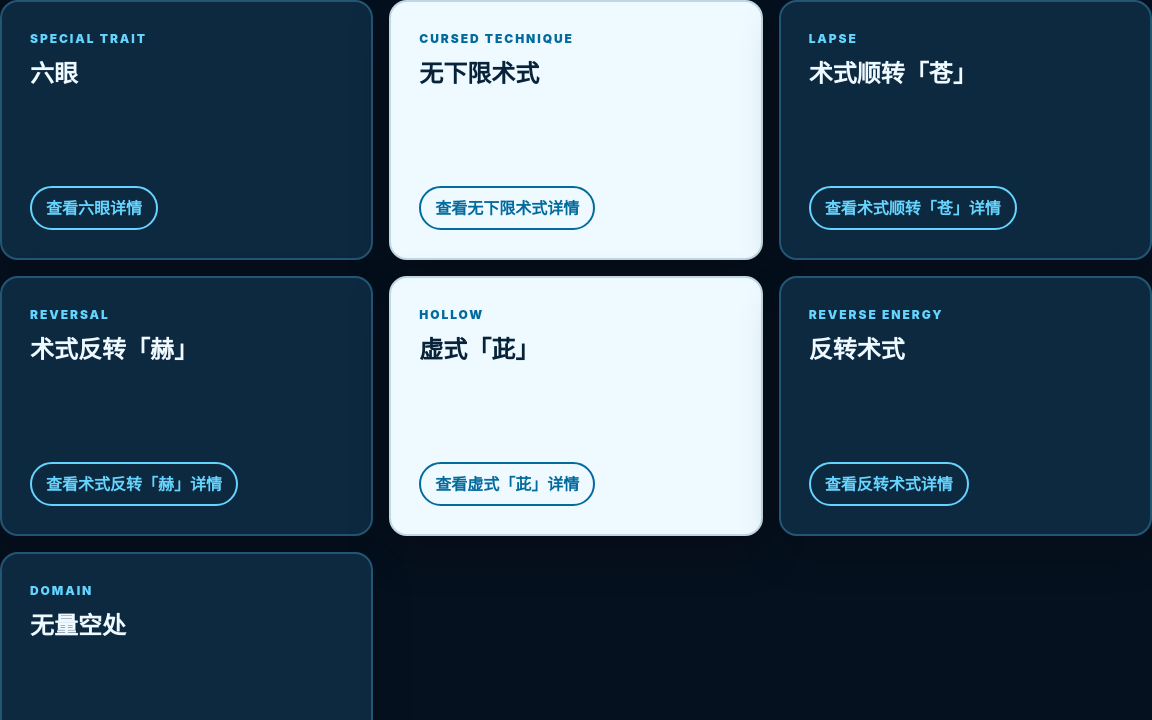
it: HomePage interactions › expands and collapses a technique detail
The image size is (1152, 720).
Check: the text "近乎零损耗" is not shown
Click the button "查看六眼详情": coordinates (94, 208) [30,186,158,230]
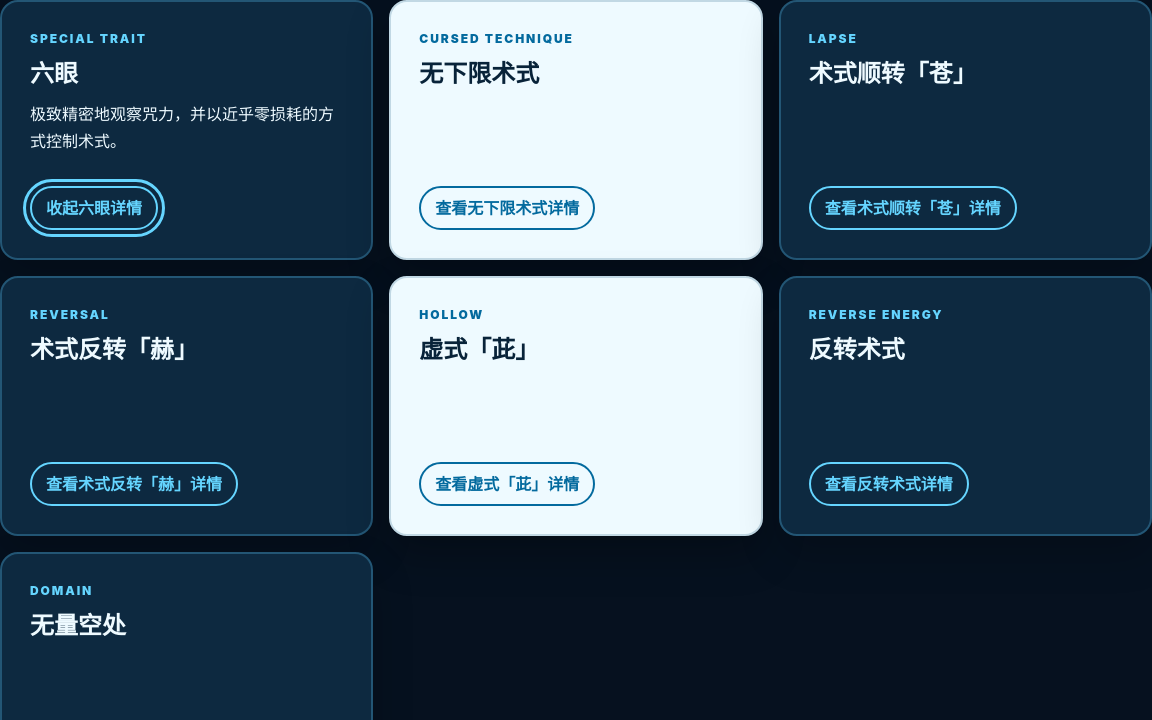
Check: the text "极致精密地观察咒力，并以近乎零损耗的方式控制术式。" is shown, box [30,101,343,155]
Click the button named "查看六眼详情": coordinates (94, 208) [30,186,158,230]
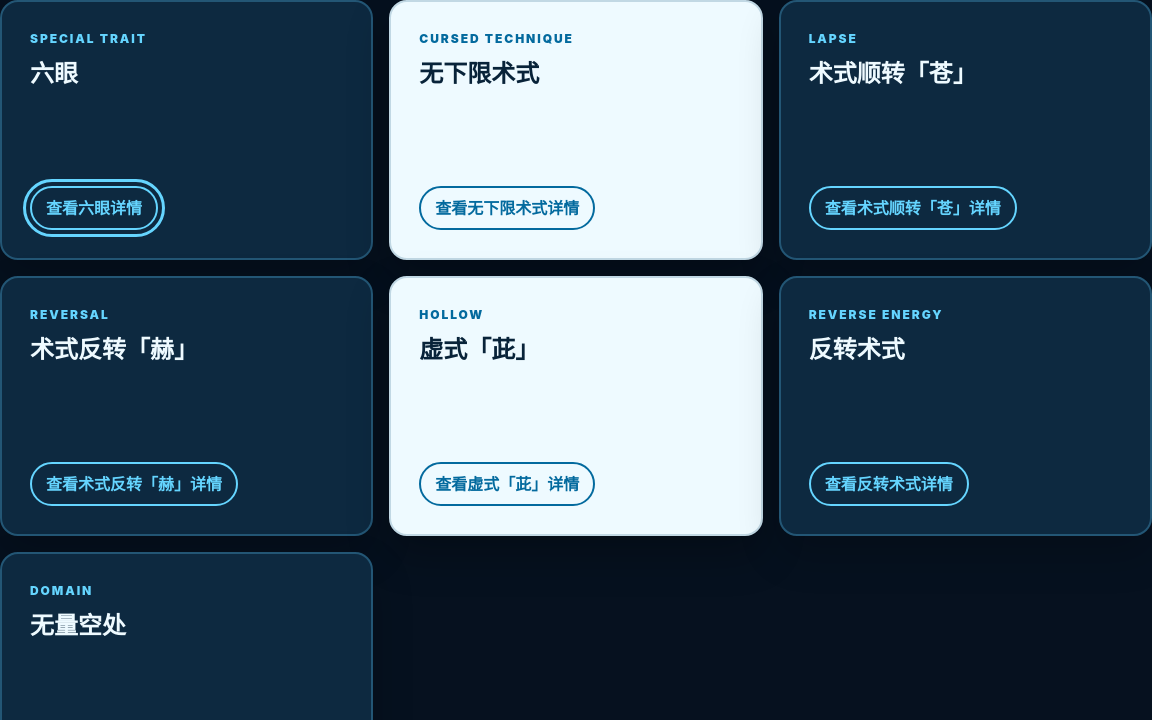
Check: the text "近乎零损耗" is gone
